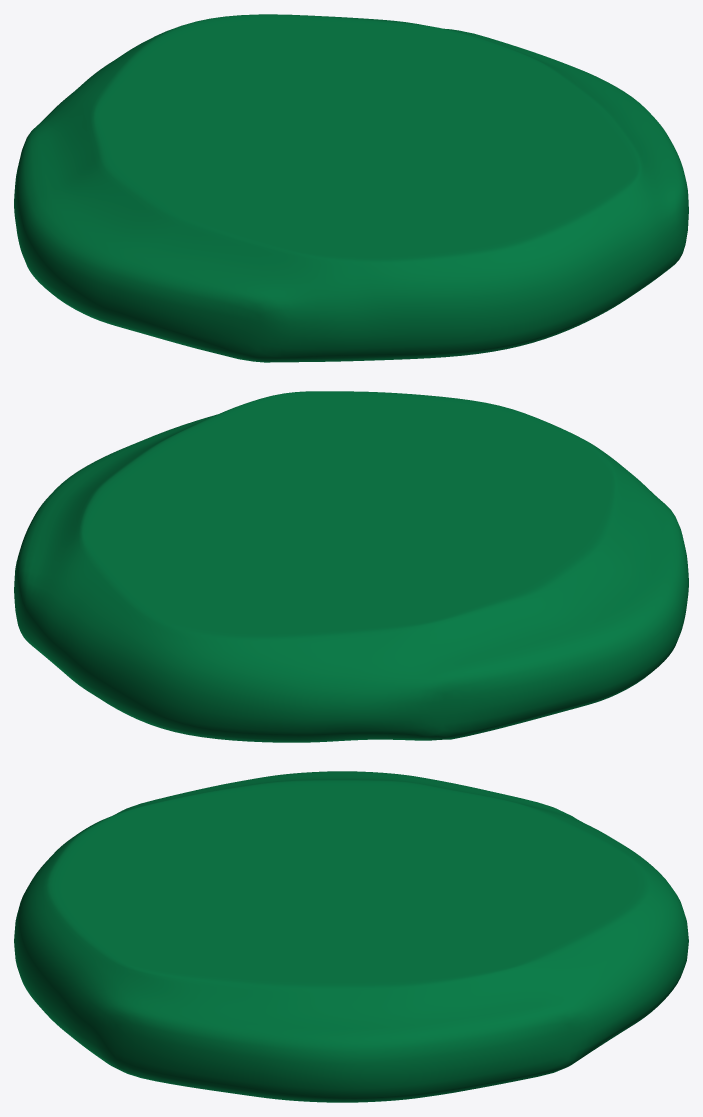
File: terrain3.fbx
3 renders of one model, top to bottom at view 1: azimuth 30°, elevation 25°; view 2: azimuth 150°, elevation 25°; view 3: azimuth 270°, elevation 25°, orthographic. The views are drawn at different scales.
Visible parts, largest first — view 1: Cube; view 2: Cube; view 3: Cube.
Boxes of the visible parts, box(x1,y1,x2,y2) form: Cube: box(14, 14, 688, 362); Cube: box(14, 391, 688, 742); Cube: box(14, 771, 688, 1102).
Size of the model in its own units: 1344 by 205 by 1360.
